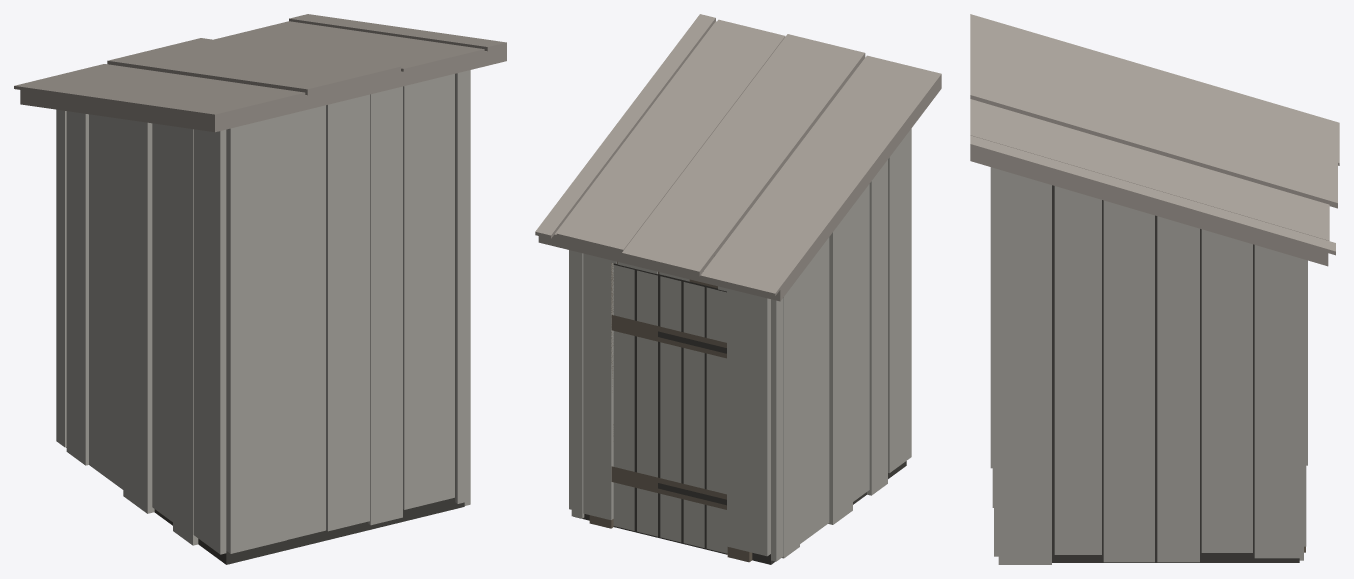
Rendered from recon_1835_north_a3_034__inferred_1835.glb.
3 views of the same model, side by side, from view 1: azimuth 30°, elevation 25°; view 2: azimuth 150°, elevation 25°; view 3: azimuth 270°, elevation 25° (orthographic). The views are drawn at different scales.
Parts seen in each view (by area): view 1: recon_1835_north_a3_034__inferred_1835; view 2: recon_1835_north_a3_034__inferred_1835; view 3: recon_1835_north_a3_034__inferred_1835.
Part boxes in pixels (x1,y1,x2,y2): recon_1835_north_a3_034__inferred_1835: (14, 14, 506, 564); recon_1835_north_a3_034__inferred_1835: (535, 14, 941, 564); recon_1835_north_a3_034__inferred_1835: (970, 14, 1339, 564).
Bounding box in the file's own units: 1.79 × 2.76 × 2.13.
